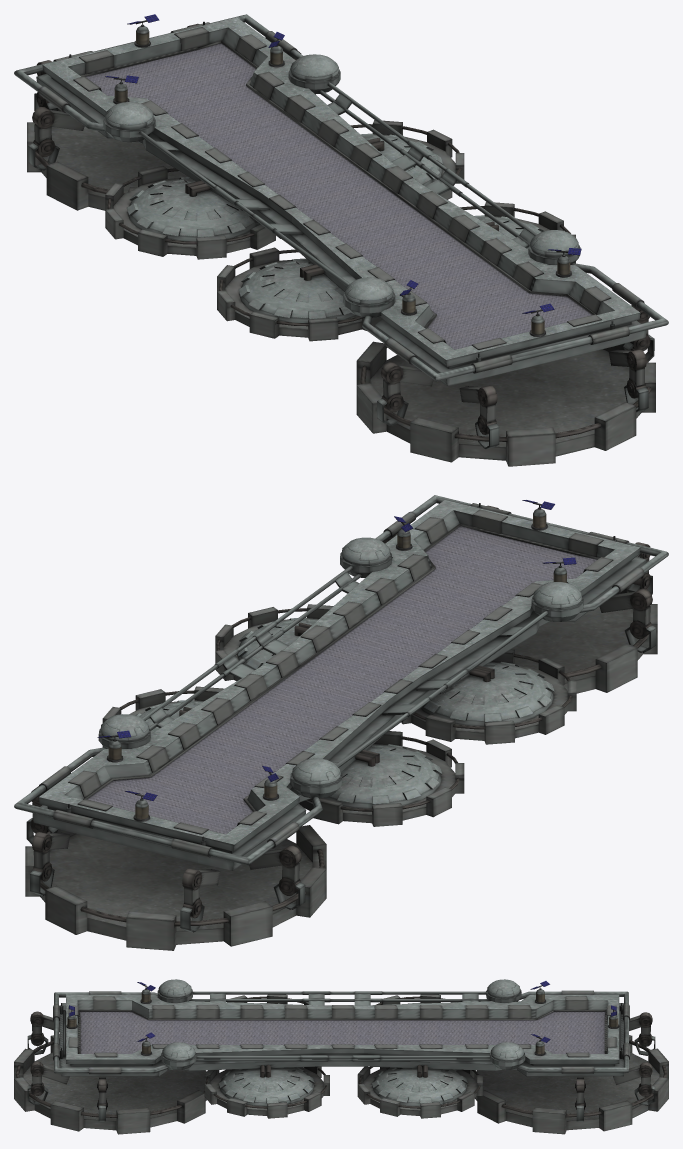
The model's file is Level1_V1.FBX.
3 renders of one model, top to bottom at view 1: azimuth 30°, elevation 25°; view 2: azimuth 150°, elevation 25°; view 3: azimuth 270°, elevation 25°, orthographic. The views are drawn at different scales.
Visible parts, largest first — view 1: Level1; view 2: Level1; view 3: Level1.
Boxes of the visible parts, bbox=[...] form: Level1: bbox=[14, 14, 668, 466]; Level1: bbox=[14, 495, 668, 950]; Level1: bbox=[14, 979, 668, 1134].
Bounding box in the file's own units: 51.93 × 17.31 × 127.
1 material, 1 textured.
